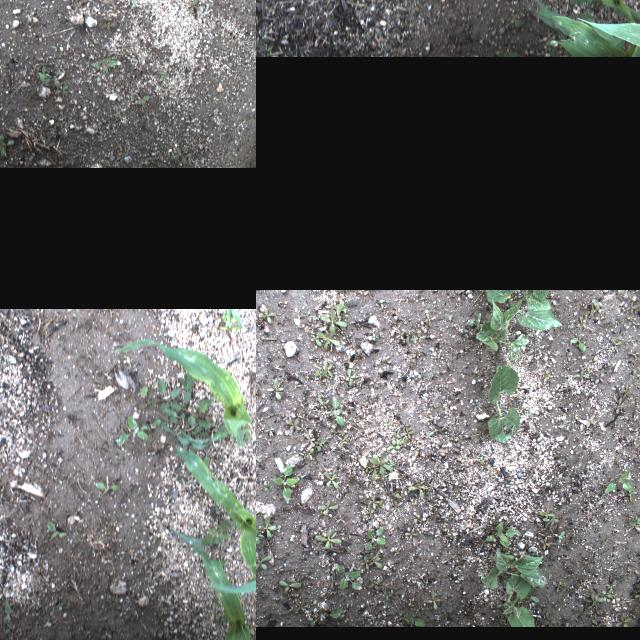crop: (117, 338, 251, 449), (169, 448, 256, 593), (534, 0, 640, 56), (195, 546, 250, 640), (475, 296, 529, 360), (486, 290, 562, 330), (486, 362, 522, 443), (479, 550, 546, 588), (496, 568, 534, 626), (547, 0, 640, 23), (219, 308, 243, 329)
weed: (157, 372, 211, 458), (270, 464, 300, 504), (485, 520, 521, 548), (117, 414, 149, 444), (333, 562, 362, 590), (366, 454, 394, 481), (201, 520, 229, 546), (604, 468, 634, 492), (314, 528, 342, 550), (308, 608, 342, 626), (319, 312, 346, 332), (258, 514, 278, 540), (367, 526, 387, 550), (316, 329, 340, 349), (584, 296, 604, 318), (96, 475, 120, 493), (47, 520, 67, 540), (140, 384, 158, 406), (407, 480, 429, 498), (332, 397, 344, 428), (90, 58, 116, 72), (401, 612, 427, 626), (318, 498, 338, 516), (278, 578, 302, 592), (268, 376, 282, 399), (426, 590, 442, 610), (362, 552, 382, 568), (583, 593, 605, 607), (3, 599, 13, 629), (502, 15, 526, 27), (324, 471, 340, 489), (36, 66, 50, 86), (260, 307, 278, 321), (242, 418, 252, 442), (141, 418, 161, 430), (256, 556, 271, 571), (287, 418, 303, 432), (571, 336, 585, 352), (494, 48, 520, 56), (54, 80, 68, 94), (542, 612, 556, 626), (404, 526, 418, 540), (337, 433, 349, 449), (400, 427, 416, 439), (346, 368, 356, 387), (614, 396, 624, 414), (324, 359, 334, 377), (333, 303, 342, 323), (410, 332, 428, 342), (538, 508, 556, 518), (576, 368, 588, 382), (611, 338, 623, 352), (304, 432, 316, 446), (364, 503, 376, 517), (424, 310, 434, 326), (368, 494, 378, 510), (627, 486, 637, 502), (388, 440, 399, 454), (294, 600, 306, 612), (520, 594, 538, 602), (624, 300, 636, 312), (188, 0, 199, 13), (136, 95, 150, 105), (614, 616, 628, 626), (539, 536, 549, 550), (318, 396, 328, 410), (410, 349, 424, 359), (374, 498, 384, 512), (622, 381, 630, 397), (393, 499, 402, 513), (551, 580, 561, 592), (628, 516, 640, 526), (479, 460, 491, 470), (316, 438, 326, 450), (310, 334, 320, 346), (394, 432, 404, 444), (602, 590, 612, 602), (590, 618, 604, 626), (586, 412, 594, 426), (578, 315, 586, 329), (368, 578, 379, 588), (256, 448, 263, 463), (384, 418, 394, 428), (264, 426, 274, 436), (326, 302, 336, 312), (204, 452, 210, 468), (558, 530, 564, 544), (634, 588, 640, 602), (396, 329, 404, 339), (300, 450, 310, 458), (351, 418, 361, 426), (399, 421, 409, 429), (606, 580, 616, 588), (634, 566, 640, 579), (614, 456, 620, 468), (541, 518, 559, 522), (385, 593, 393, 601), (379, 303, 387, 311), (391, 492, 401, 498), (216, 617, 226, 621), (264, 481, 268, 491), (564, 420, 572, 422)
